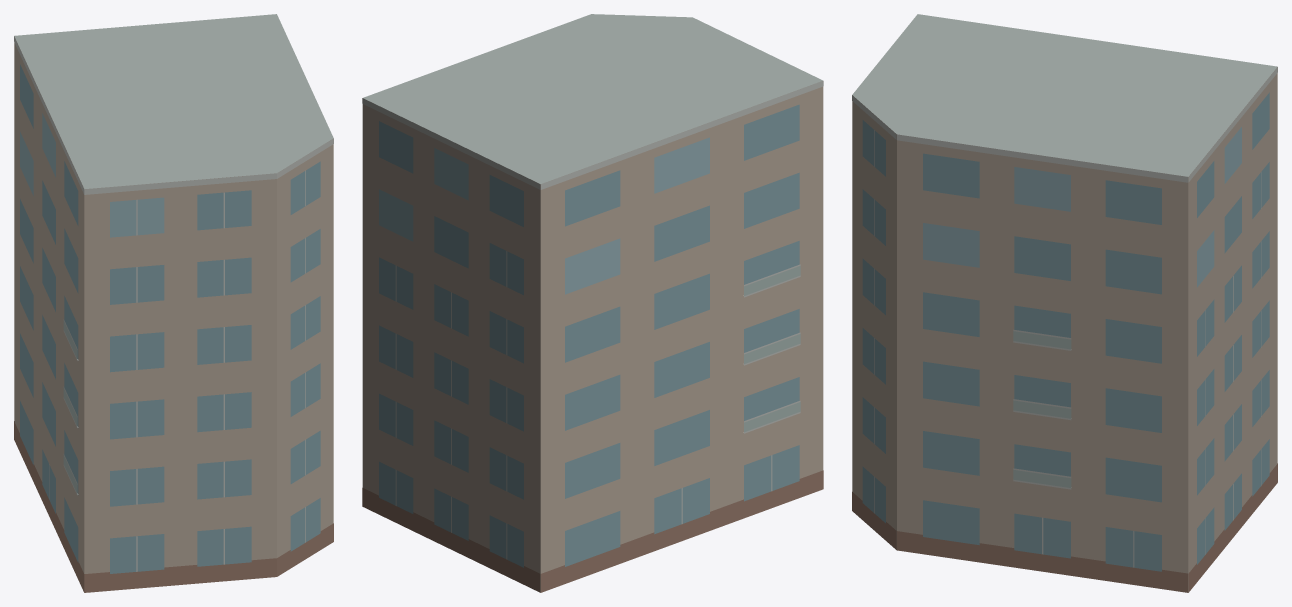
The model's file is survey-upis-32528412.glb.
3 views of the same model, side by side, from view 1: azimuth 30°, elevation 25°; view 2: azimuth 150°, elevation 25°; view 3: azimuth 270°, elevation 25° (orthographic). The views are drawn at different scales.
Parts seen in each view (by area): view 1: survey-upis-32528412.tmp; view 2: survey-upis-32528412.tmp; view 3: survey-upis-32528412.tmp.
Part boxes in pixels (x1=…): survey-upis-32528412.tmp: x1=14, y1=14, x2=333, y2=592; survey-upis-32528412.tmp: x1=362, y1=14, x2=823, y2=592; survey-upis-32528412.tmp: x1=852, y1=14, x2=1277, y2=592.
Bounding box in the file's own units: 14.37 × 17.1 × 15.87.
